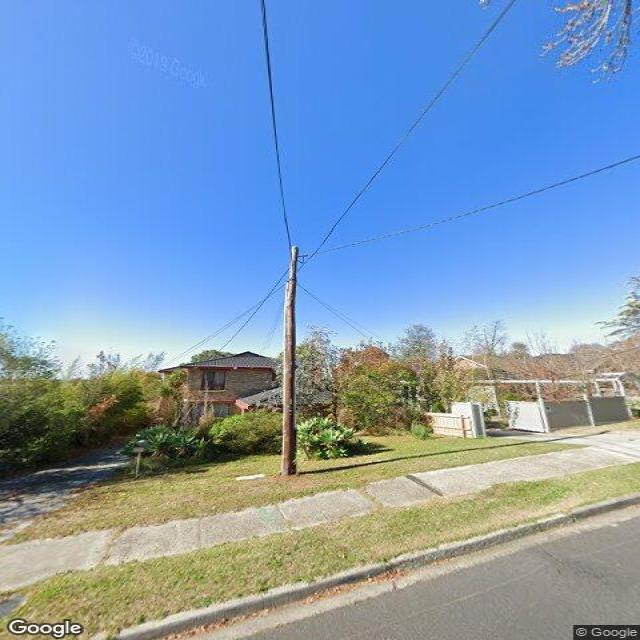timber-pole: (283, 245, 301, 478)
